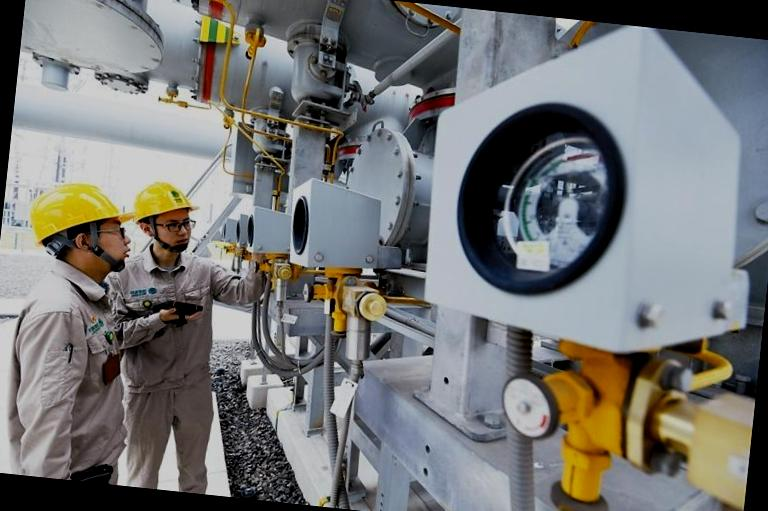helmet: (27, 177, 127, 247), (130, 170, 200, 232)
person: (97, 172, 250, 495), (0, 166, 145, 484)
